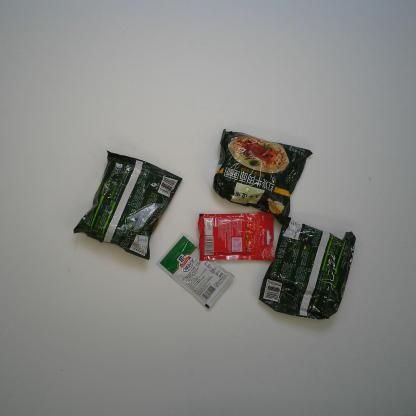Candy: (197, 212, 275, 262)
Instant Noodles: (74, 150, 184, 260), (212, 127, 314, 226), (258, 217, 356, 320)
Seasoner: (154, 232, 236, 310)
